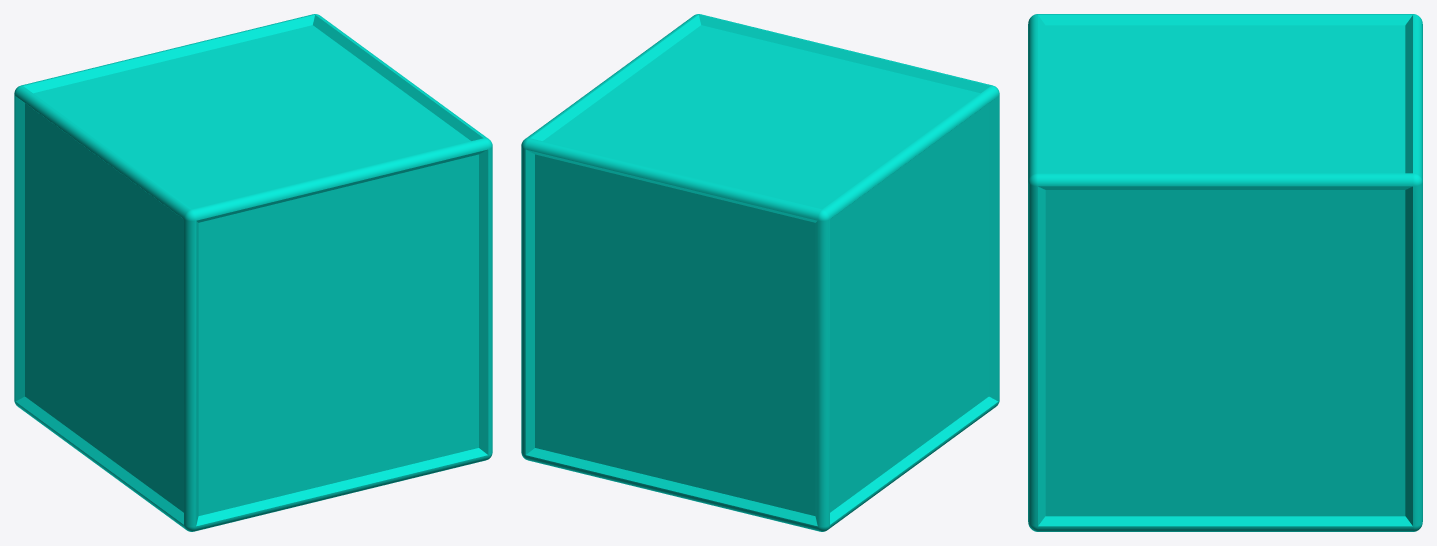
3 renders of one model, left to right at view 1: azimuth 30°, elevation 25°; view 2: azimuth 150°, elevation 25°; view 3: azimuth 270°, elevation 25°, orthographic. The views are drawn at different scales.
Visible parts, largest first — view 1: pCube1; view 2: pCube1; view 3: pCube1.
Part boxes in pixels (x1,y1,x2,y2): pCube1: (14,14,492,531); pCube1: (521,14,999,531); pCube1: (1028,14,1422,531).
Size of the model in its own units: 1 by 1 by 1.
